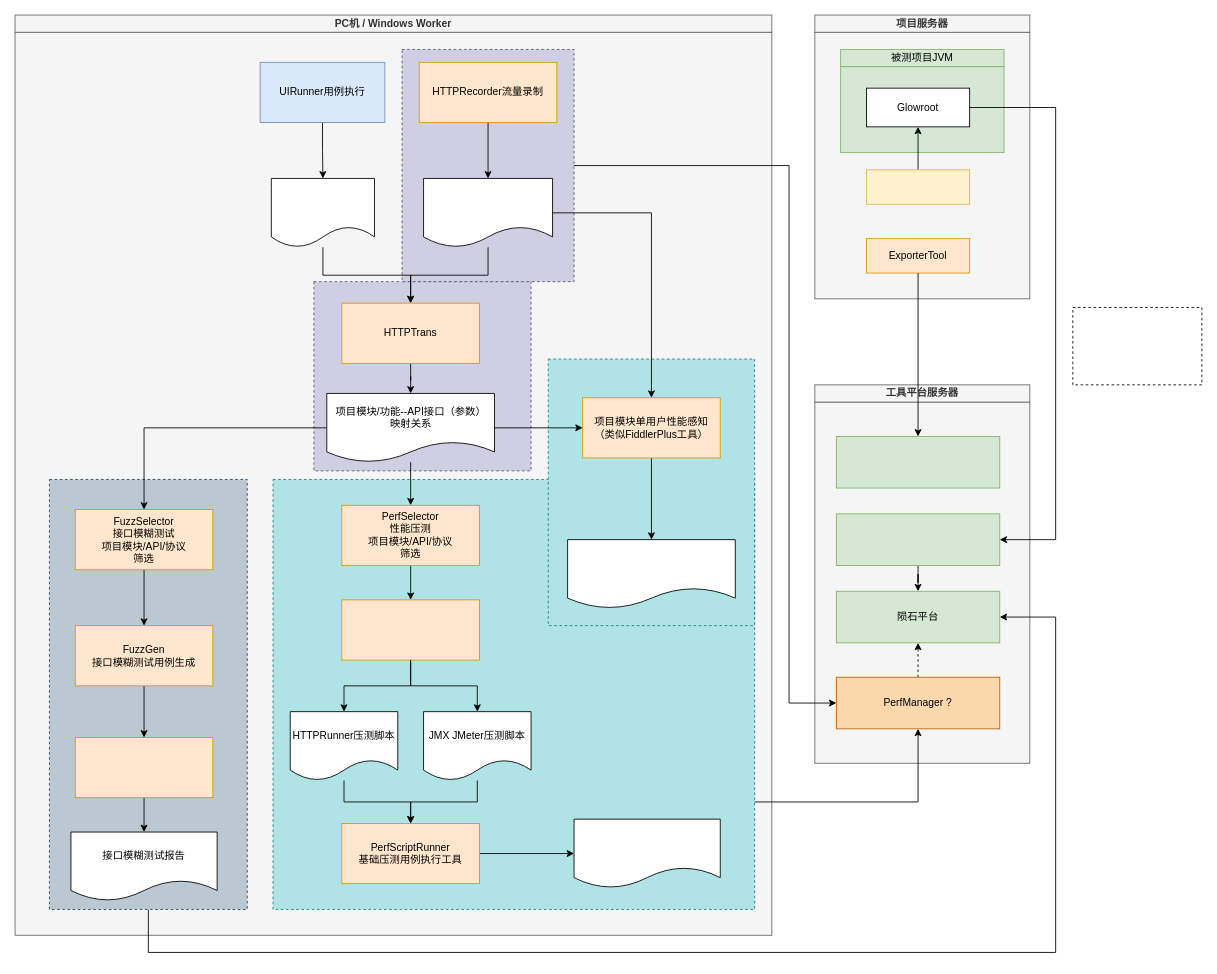
Image size: 1217x974. Some labels were removed from this diagram. The shapes that lost their labels are listed below. From the top down, each one's centre as x and y in pixels, then its label:
point (918, 186): GRMClient
point (322, 212): 用例时序元数据
point (488, 212): HTTP时序请求/响应数据
point (1137, 346): Prism测试执行覆盖率
point (917, 462): Prometheus + Grafana
point (917, 539): GRManager
point (651, 573): 单用户 项目性能感知 首屏耗时 分析报告
point (410, 629): PerfScriptGen 基础压测用例生成工具
point (143, 767): FuzzRunner 接口模糊测试用例运行
point (646, 853): 基础性能压测分析报告
